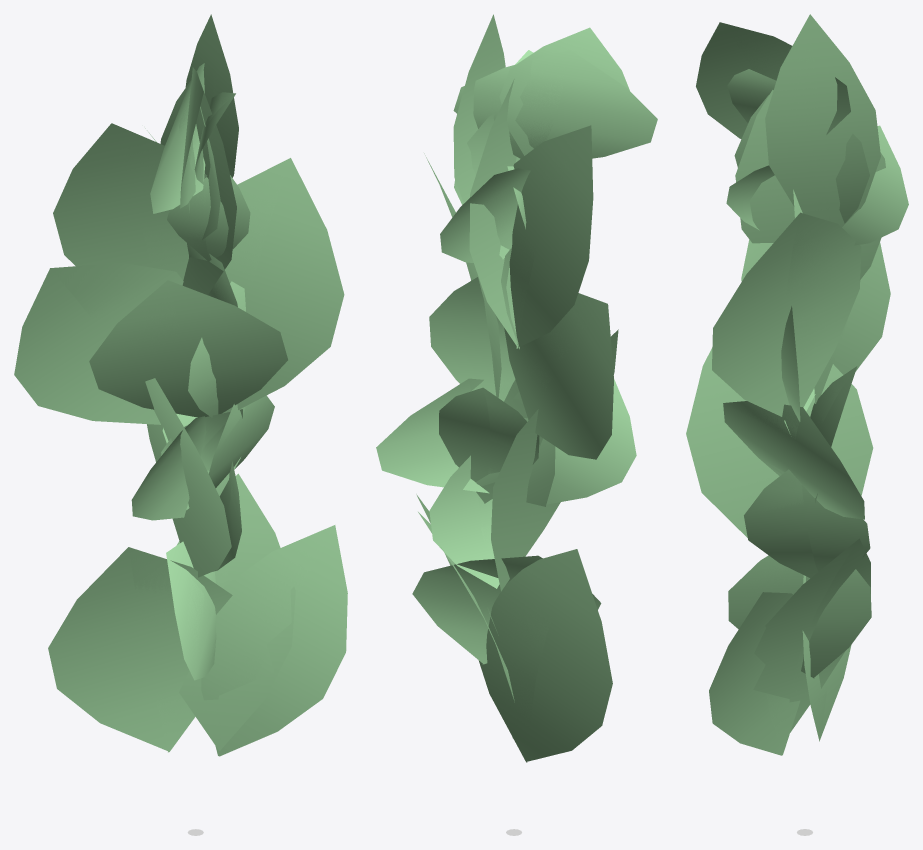
The model's file is mint_2.glb.
3 views of the same model, side by side, from view 1: azimuth 30°, elevation 25°; view 2: azimuth 150°, elevation 25°; view 3: azimuth 270°, elevation 25° (orthographic).
Parts seen in each view (by area): view 1: Leaf_06, Leaf_23, Leaf_18, Leaf_09, Leaf_13, Leaf_16, Leaf_03, Leaf_14, Leaf_12, Leaf_07, Leaf_11, Leaf_15 (+10 smaller); view 2: Leaf_06, Leaf_16, Leaf_13, Leaf_10, Leaf_12, Leaf_19, Leaf_14, Leaf_04, Leaf_07, Leaf_08, Leaf_05, Leaf_11 (+6 smaller); view 3: Leaf_09, Leaf_17, Leaf_14, Leaf_23, Leaf_08, Leaf_05, Leaf_03, Leaf_12, Leaf_01, Leaf_07, Leaf_13, Leaf_00 (+8 smaller).
Part boxes in pixels (x1,y1,x2,y2): Leaf_06: [48, 547, 232, 752]; Leaf_23: [201, 525, 347, 756]; Leaf_18: [89, 280, 287, 417]; Leaf_09: [222, 158, 344, 413]; Leaf_13: [14, 263, 183, 424]; Leaf_16: [53, 123, 207, 280]; Leaf_03: [176, 473, 295, 750]; Leaf_14: [145, 378, 231, 577]; Leaf_12: [166, 541, 216, 680]; Leaf_07: [160, 80, 236, 294]; Leaf_11: [131, 416, 206, 520]; Leaf_15: [167, 175, 250, 261]; Leaf_06: [478, 549, 612, 762]; Leaf_16: [509, 125, 593, 347]; Leaf_13: [504, 293, 613, 459]; Leaf_10: [453, 50, 657, 158]; Leaf_12: [412, 555, 601, 664]; Leaf_19: [429, 277, 515, 401]; Leaf_14: [491, 329, 618, 591]; Leaf_04: [439, 387, 539, 503]; Leaf_07: [469, 79, 518, 348]; Leaf_08: [376, 378, 489, 493]; Leaf_05: [429, 455, 499, 588]; Leaf_11: [540, 379, 636, 505]; Leaf_09: [712, 212, 861, 416]; Leaf_17: [765, 14, 880, 227]; Leaf_14: [686, 348, 873, 537]; Leaf_23: [709, 592, 800, 755]; Leaf_08: [723, 401, 864, 519]; Leaf_05: [744, 469, 870, 578]; Leaf_03: [753, 538, 870, 732]; Leaf_12: [728, 555, 871, 678]; Leaf_01: [696, 22, 792, 139]; Leaf_07: [735, 90, 885, 280]; Leaf_13: [814, 242, 890, 403]; Leaf_00: [842, 125, 908, 245].
Size of the model in its own units: 0.4385 by 1.32 by 0.3218.
